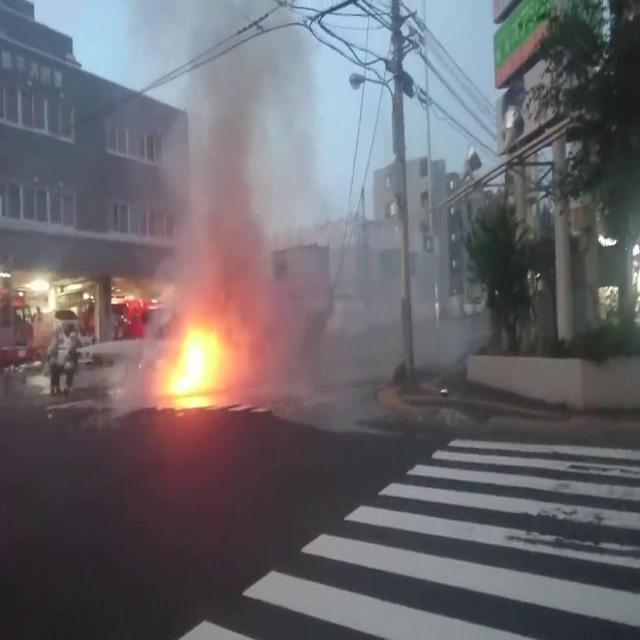Fire: (162, 327, 216, 394)
